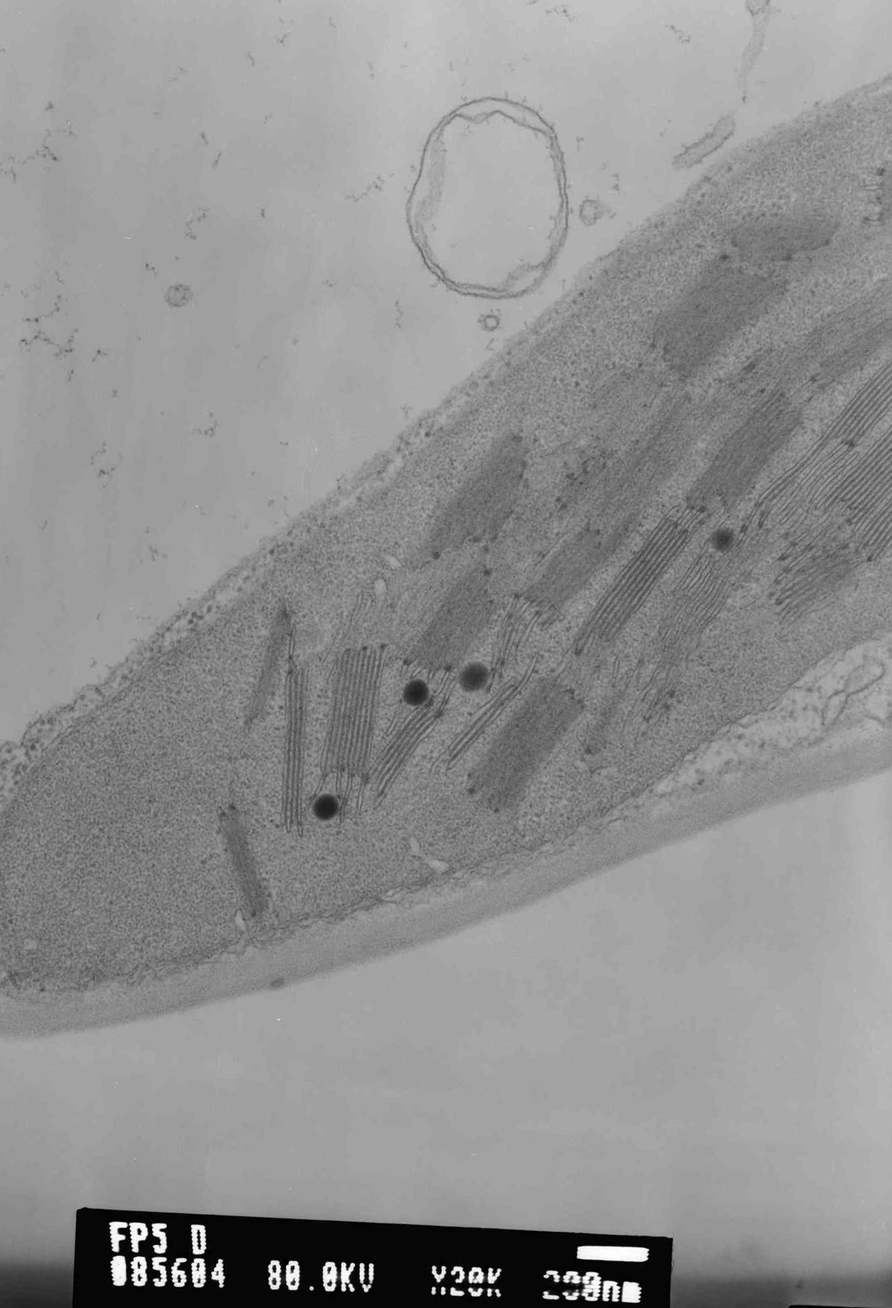granum: (644, 259, 793, 383), (462, 675, 590, 812), (570, 516, 693, 656), (679, 386, 808, 516), (425, 435, 529, 551), (404, 566, 503, 675), (518, 519, 621, 621), (317, 646, 386, 784), (814, 424, 892, 532), (366, 702, 440, 798), (442, 675, 524, 760), (209, 807, 271, 919), (823, 353, 892, 449), (775, 544, 862, 620), (731, 211, 843, 265), (276, 666, 310, 833), (244, 607, 292, 721), (816, 313, 892, 385), (857, 499, 892, 558), (871, 158, 892, 240)
